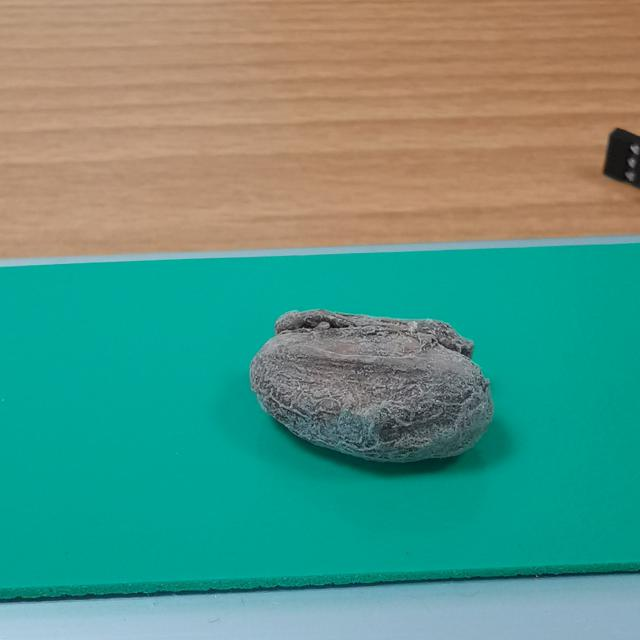Agglomerated_cocoabeans: (201, 261, 567, 528)
